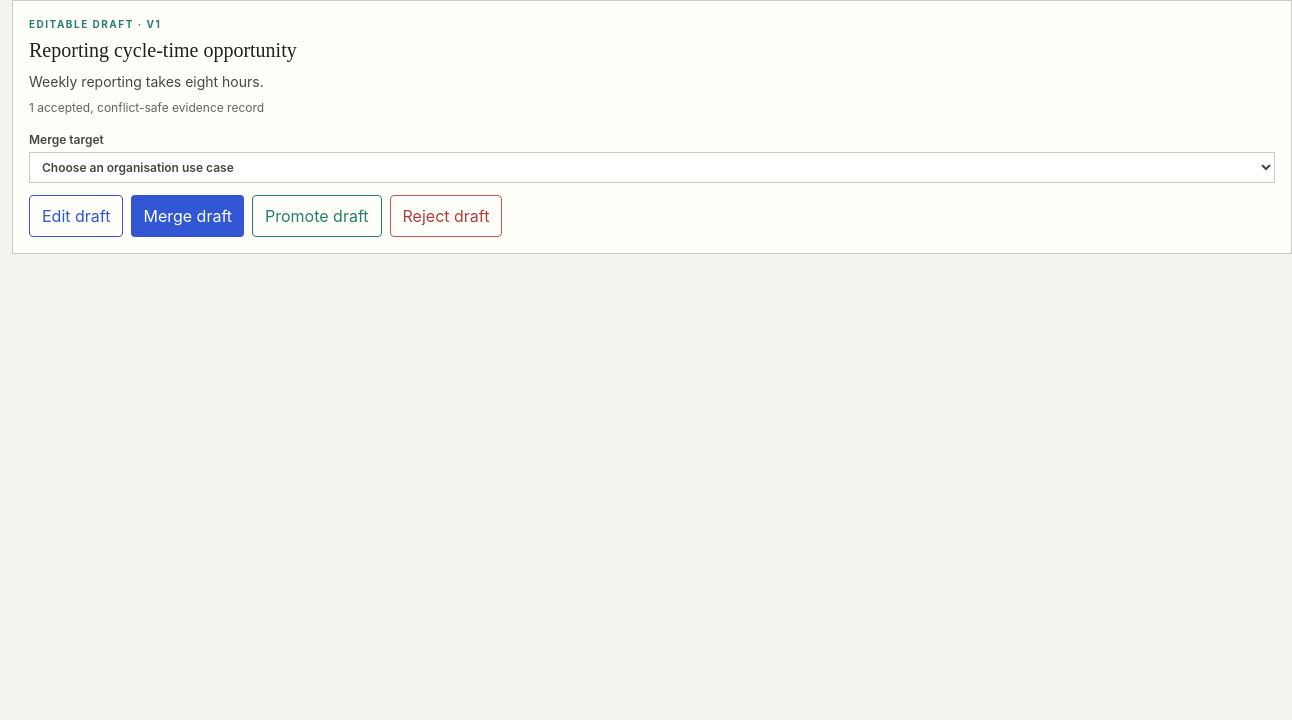
Scenario: edits draft fields and selected evidence through a versioned persisted update
The image size is (1292, 720).
Click the button "Edit draft" at (76,216), box top-left (29, 195), bottom-right (123, 237)
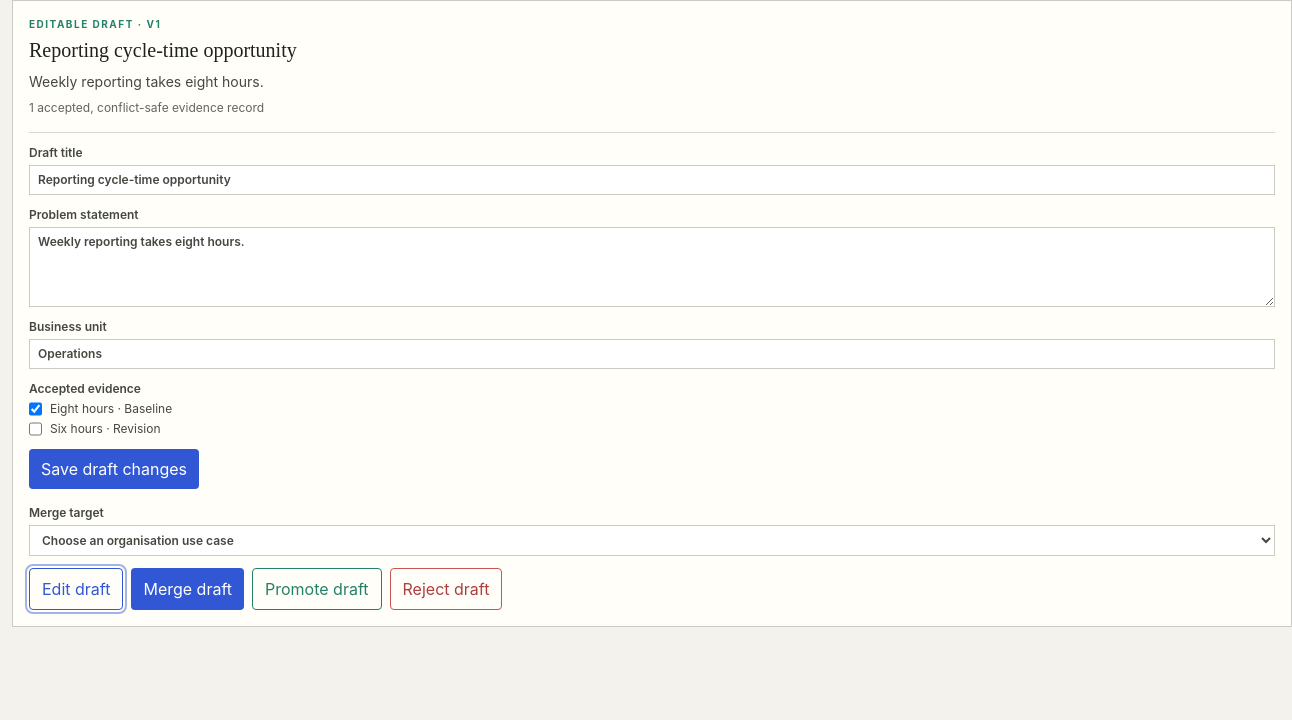
Replace the text in the field labelled "Draft title" with "Faster reporting" at (652,180), box top-left (29, 165), bottom-right (1275, 195)
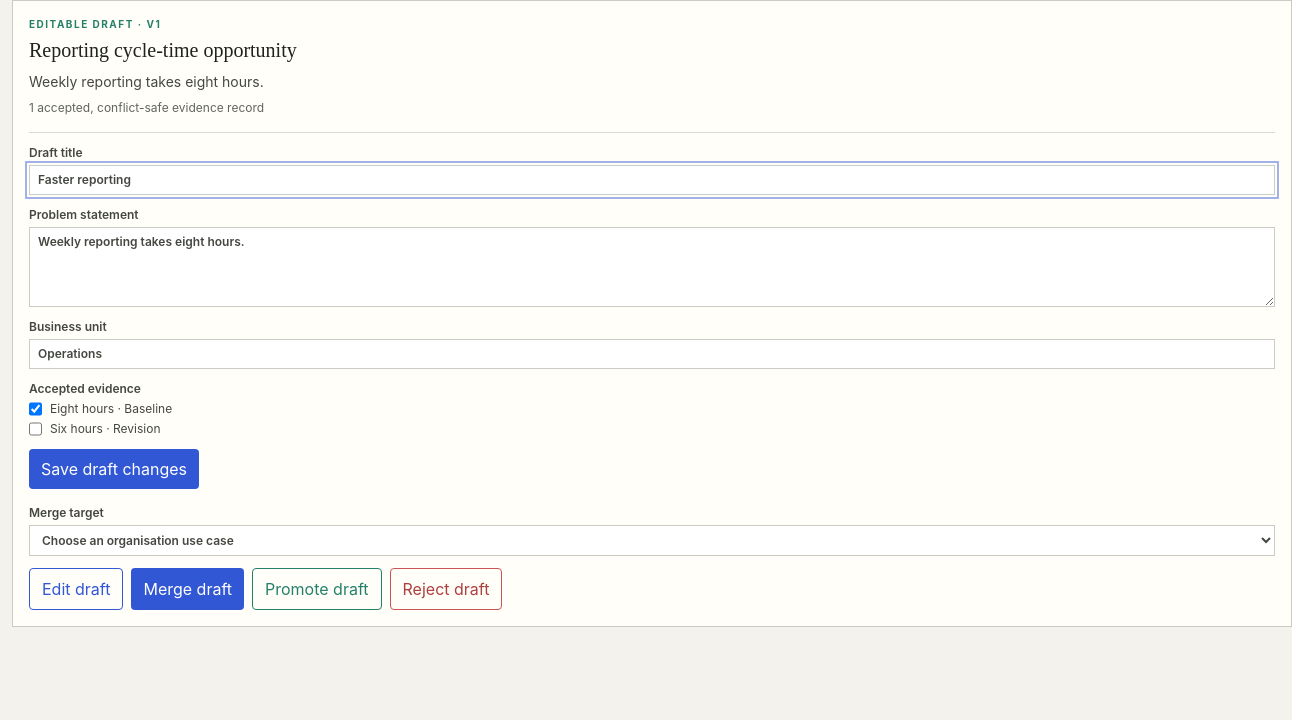
Click the checkbox labelled "Six hours · Revision" at (36,429), box top-left (29, 421), bottom-right (42, 437)
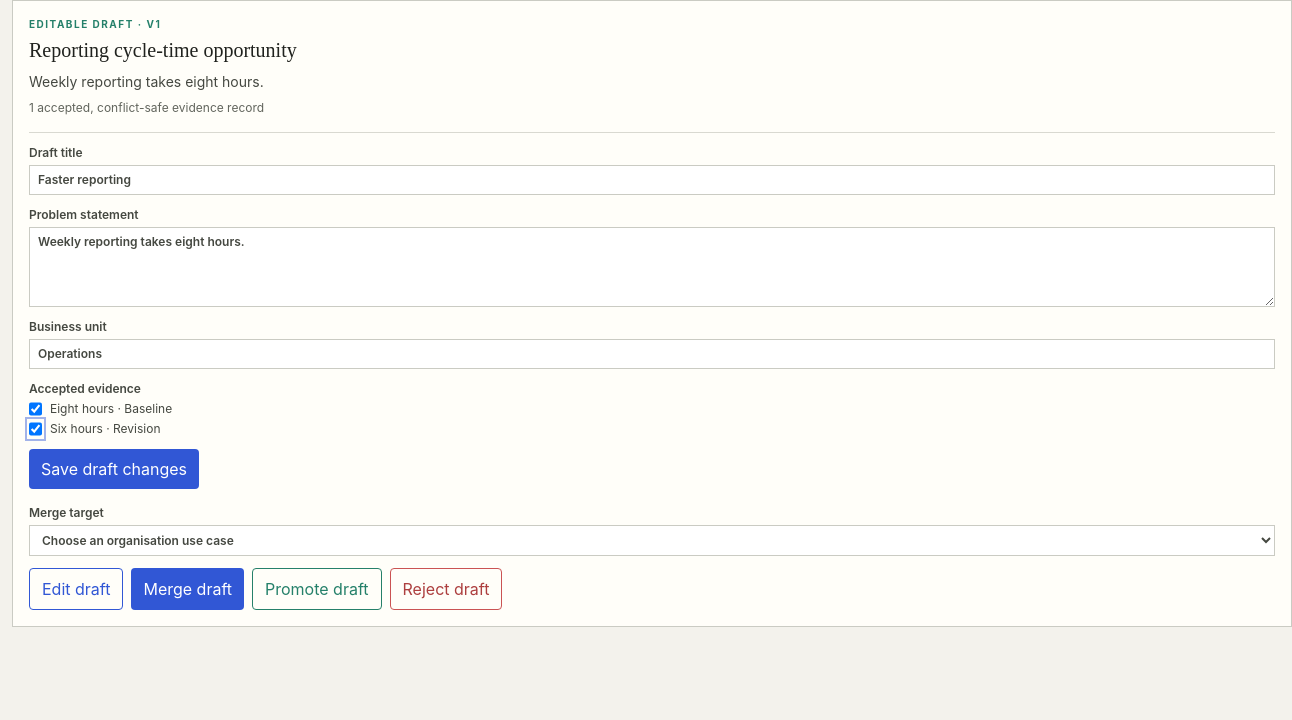
Click the button "Save draft changes" at (114,469), box top-left (29, 449), bottom-right (199, 489)
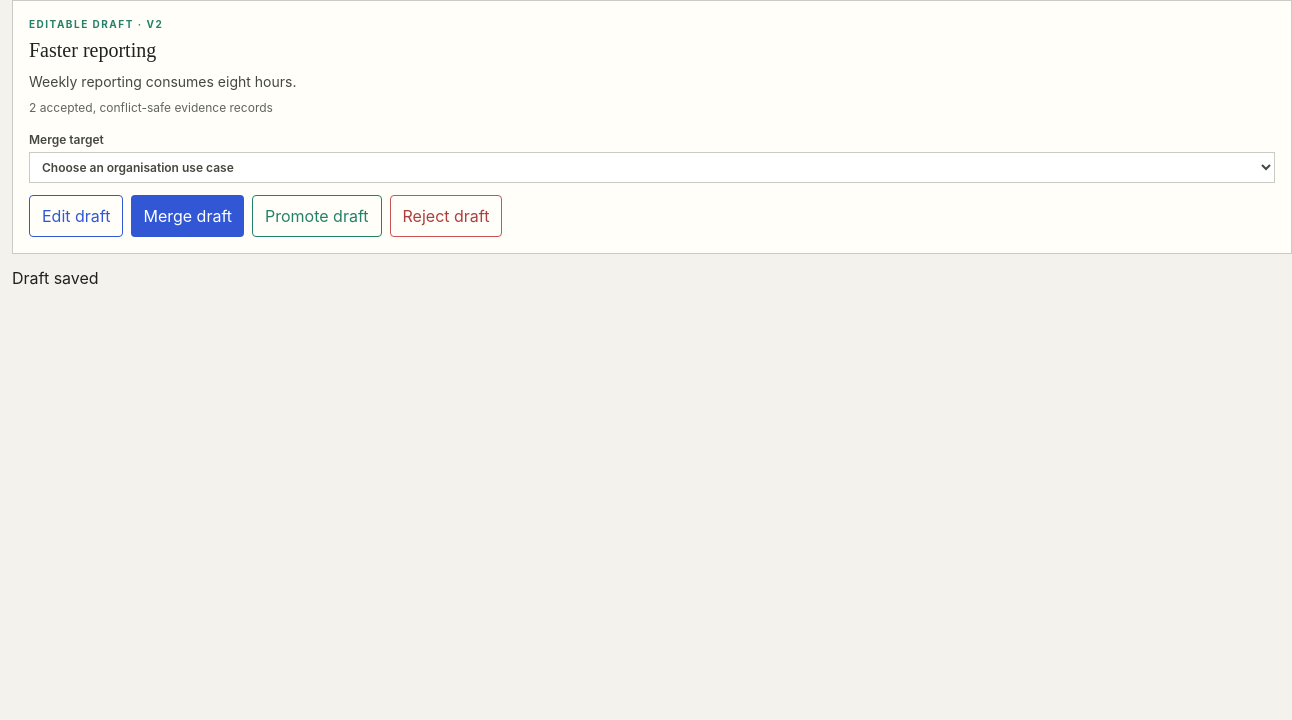
Result: the message reads "Draft saved" at top-left (12, 268), bottom-right (99, 288)
